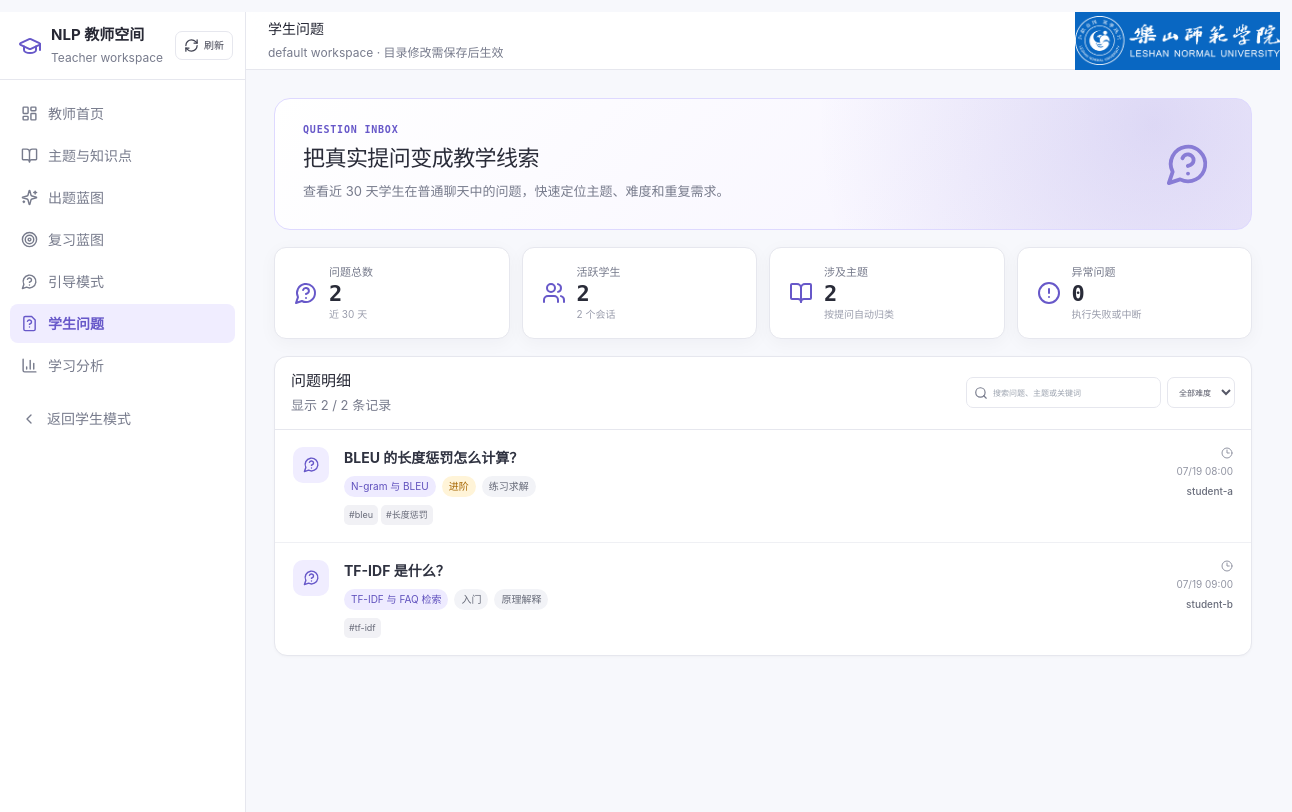
Scenario: TeacherWorkspace catalog CRUD › renders a searchable student-question inbox
Expected: the heading "把真实提问变成教学线索" is shown, [303,145,539,171]
Expected: the text "BLEU 的长度惩罚怎么计算？" is shown, [344,448,523,466]
Type "TF-IDF" into the field named "搜索学生问题" at x=1073, y=392, box [993,378,1153,407]
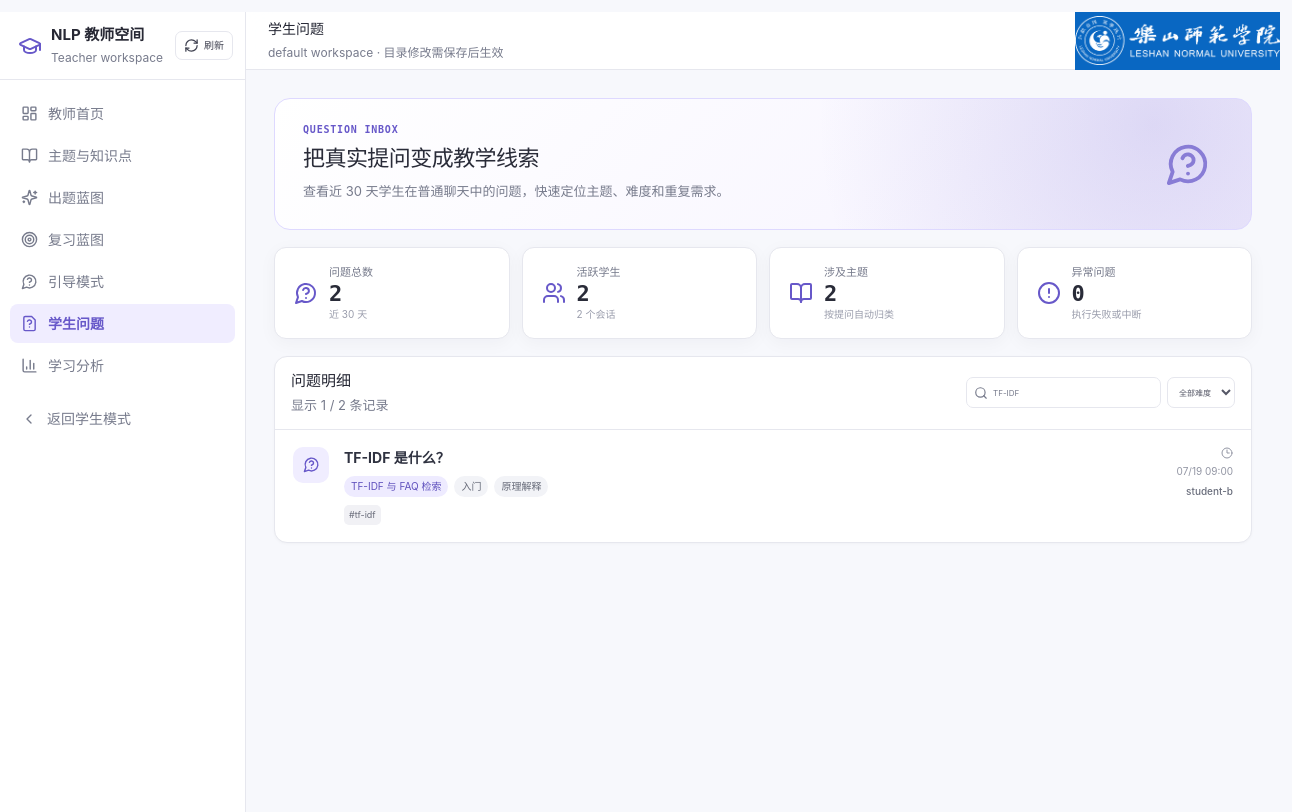
Expected: the text "TF-IDF 是什么？" is shown, [344,448,450,466]
Expected: the text "BLEU 的长度惩罚怎么计算？" is gone
